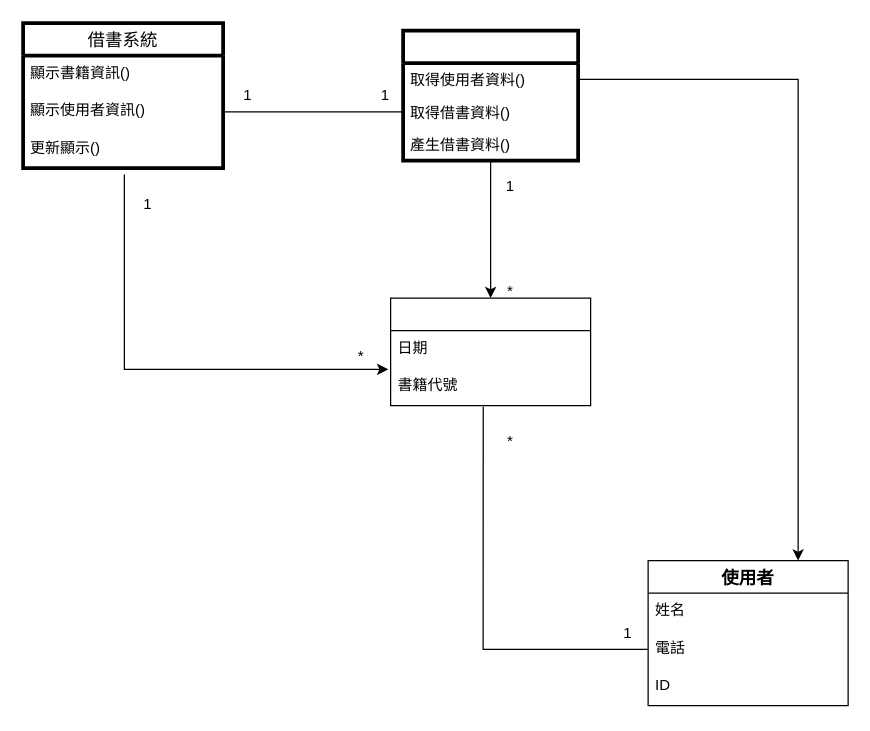
Some shapes in this 870 by 731 pixel diagram are drawn without their labels. The box of each missing label's shape, as (x1, y1, x2, y2) in pixels:
借書: (389, 297, 591, 406)
圖書館: (401, 28, 579, 162)
